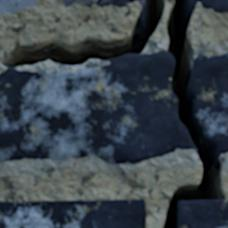brick: (0, 200, 145, 227), (180, 200, 227, 227), (0, 0, 35, 14), (196, 0, 227, 11), (62, 0, 96, 6), (99, 0, 133, 6)
broken_brick: (0, 50, 195, 164), (192, 52, 227, 157)
crack: (0, 0, 225, 227), (95, 0, 102, 5)
